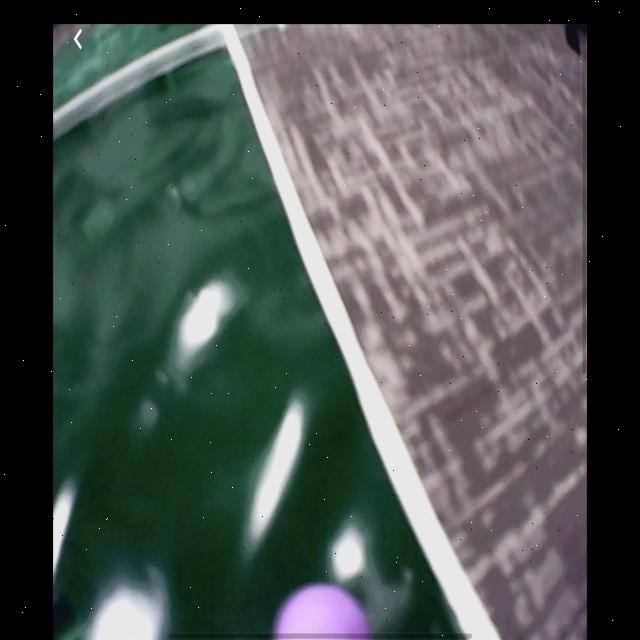ball: (272, 582, 372, 639)
